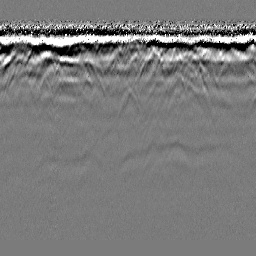cavity: (117, 84, 141, 119)
